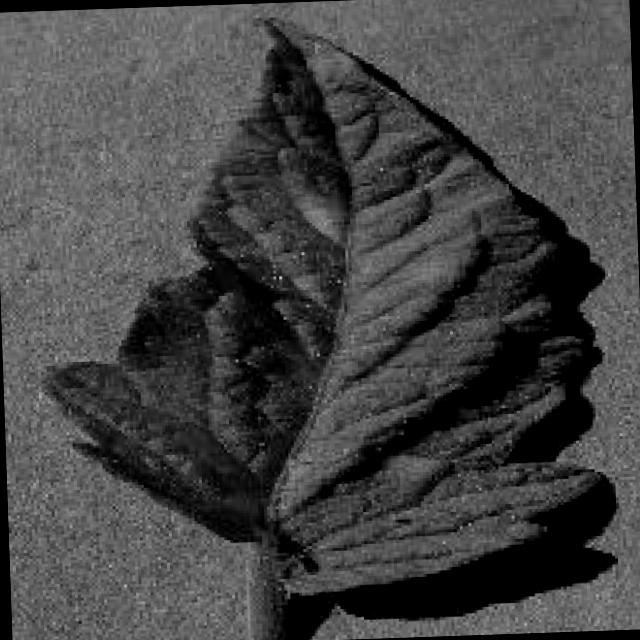leaf mold: (41, 11, 611, 640)
